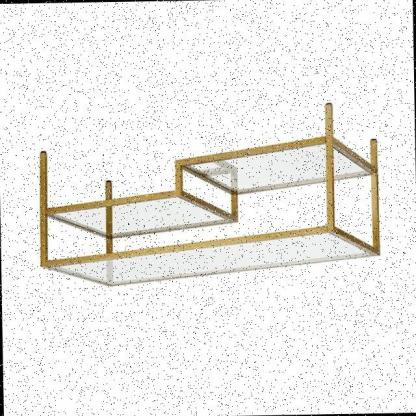Table: (11, 92, 403, 306)
